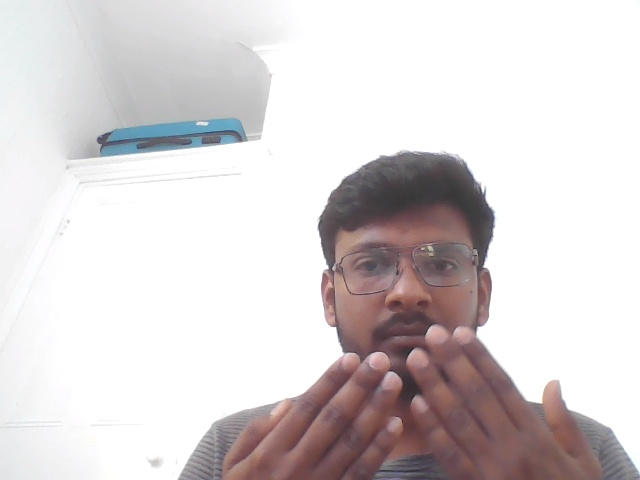Thank You: (197, 310, 610, 480)
